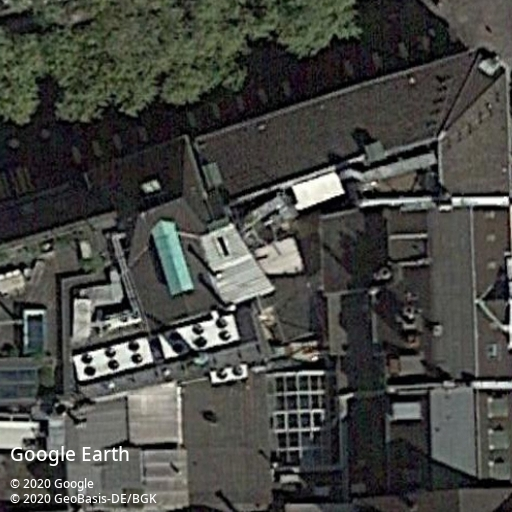Chiller: (156, 314, 241, 359), (71, 337, 154, 383), (209, 363, 248, 384)
